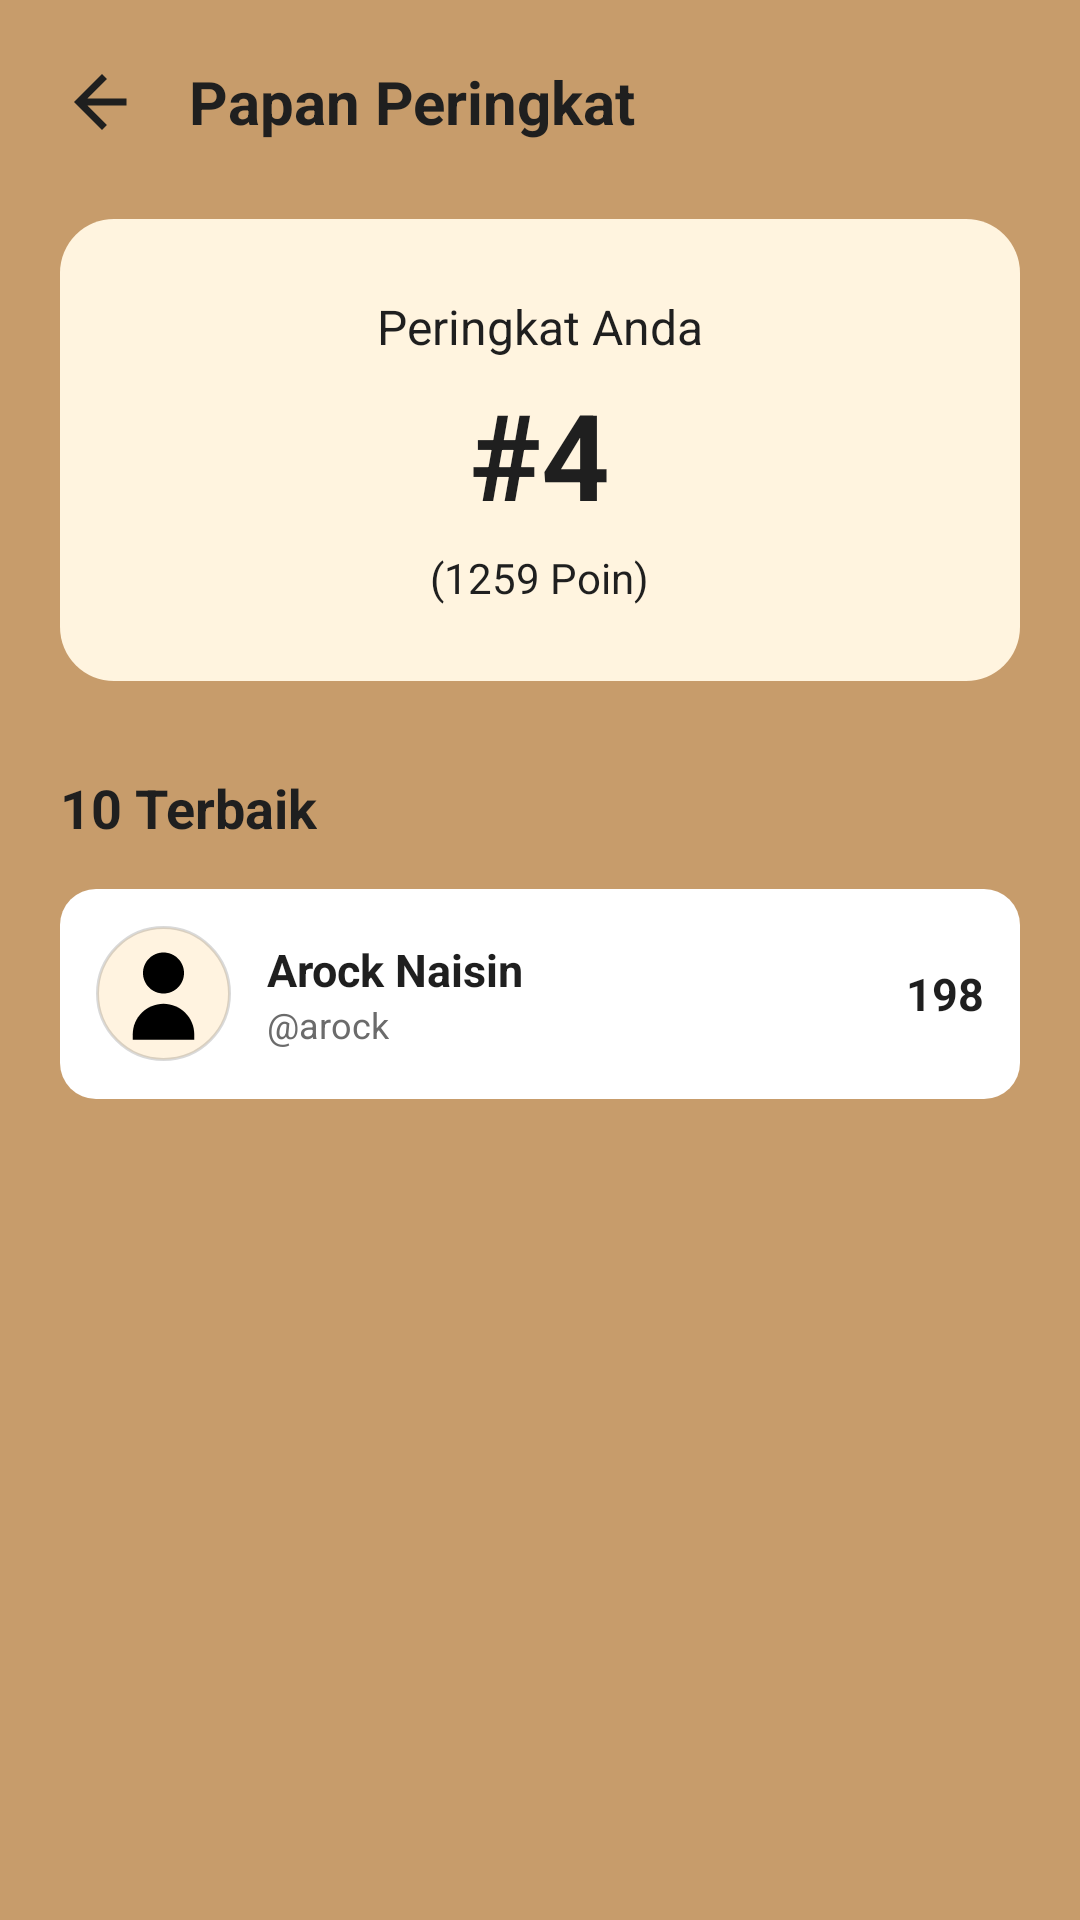

Named icons in this screenshot (1080px×1920px) and their bounding boxes, (x1, y1, x2, y2):
Kembali: (74, 74, 127, 130)
profile: (96, 926, 231, 1061)
